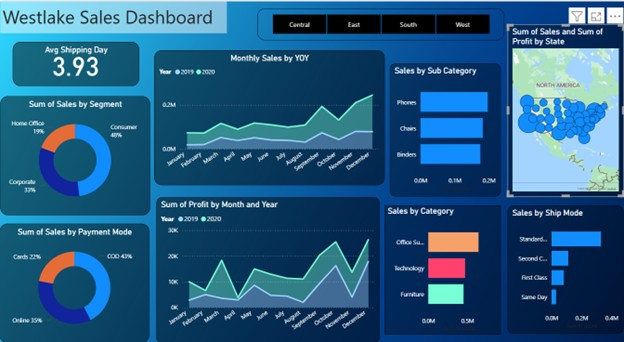

Layout of this report page (visuals, bound fields, positions):
{"tool":"powerbi","page":{"name":"Analysis","canvas":[1280,720],"ordinal":0},"visuals":[{"type":"barChart","title":"Sales by Category","fields":{"Category":["SuperStore_Sales_Dataset.Category"],"Y":["Sum(SuperStore_Sales_Dataset.Sales)"]},"box":[790.5,418.3,237,264],"z":0},{"type":"barChart","title":"Sales by Sub Category","fields":{"Y":["Sum(SuperStore_Sales_Dataset.Sales)"],"Category":["SuperStore_Sales_Dataset.Sub-Category"]},"box":[799.5,127.2,227.1,272.6],"z":1000},{"type":"barChart","title":"Sales by Ship Mode","fields":{"Y":["Sum(SuperStore_Sales_Dataset.Sales)"],"Category":["SuperStore_Sales_Dataset.Ship Mode"]},"box":[1041.9,418.3,237,262.5],"z":2000},{"type":"stackedAreaChart","title":"Monthly Sales by YOY","fields":{"Y":["Sum(SuperStore_Sales_Dataset.Sales)"],"Category":["SuperStore_Sales_Dataset.Order Date.Variation.Date Hierarchy.Month","SuperStore_Sales_Dataset.Order Date.Variation.Date Hierarchy.Day"],"Series":["SuperStore_Sales_Dataset.Order Date.Variation.Date Hierarchy.Year"]},"box":[316.5,100.2,472.4,276.8],"z":3000},{"type":"stackedAreaChart","fields":{"Category":["SuperStore_Sales_Dataset.Order Date.Variation.Date Hierarchy.Month","SuperStore_Sales_Dataset.Order Date.Variation.Date Hierarchy.Day"],"Series":["SuperStore_Sales_Dataset.Order Date.Variation.Date Hierarchy.Year"],"Y":["Sum(SuperStore_Sales_Dataset.Profit)"]},"box":[321.3,400.8,458.1,299],"z":4000},{"type":"azureMap","fields":{"Category":["SuperStore_Sales_Dataset.State"],"Size":["Sum(SuperStore_Sales_Dataset.Sales)"]},"box":[1041.8,46.9,237.7,352.8],"z":5000},{"type":"donutChart","fields":{"Y":["Sum(SuperStore_Sales_Dataset.Sales)"],"Category":["SuperStore_Sales_Dataset.Segment"]},"box":[1.5,193.8,307.4,243.8],"z":6000},{"type":"donutChart","fields":{"Y":["Sum(SuperStore_Sales_Dataset.Sales)"],"Category":["SuperStore_Sales_Dataset.Payment Mode"]},"box":[0,455.8,307.4,243.8],"z":7000},{"type":"slicer","fields":{"Values":["SuperStore_Sales_Dataset.Region"]},"box":[528.5,13.6,505.7,65.1],"z":8000},{"type":"textbox","box":[1.5,0,464.9,65.1],"z":9000},{"type":"card","title":"Avg Shipping Day","fields":{"Values":["Avg(SuperStore_Sales_Dataset.Avg_Delivery)"]},"box":[27,82.7,259.3,90.7],"z":10000}]}

Visuals, with their boxes in screenshot pixels (x1, y1, x2, y2), scaled from the page's 1280x720 canvas onto the 624x342 screenshot:
"Sales by Category" barChart: [385,199,501,324]
"Sales by Sub Category" barChart: [390,60,500,190]
"Sales by Ship Mode" barChart: [508,199,623,323]
"Monthly Sales by YOY" stackedAreaChart: [154,48,385,179]
stackedAreaChart - SuperStore_Sales_Dataset.Order Date.Variation.Date Hierarchy.Month x SuperStore_Sales_Dataset.Order Date.Variation.Date Hierarchy.Day: [157,190,380,332]
azureMap - SuperStore_Sales_Dataset.State x Sum(SuperStore_Sales_Dataset.Sales): [508,22,623,190]
donutChart - Sum(SuperStore_Sales_Dataset.Sales) x SuperStore_Sales_Dataset.Segment: [1,92,151,208]
donutChart - Sum(SuperStore_Sales_Dataset.Sales) x SuperStore_Sales_Dataset.Payment Mode: [0,217,150,332]
slicer - SuperStore_Sales_Dataset.Region: [258,6,504,37]
textbox: [1,0,227,31]
"Avg Shipping Day" card: [13,39,140,82]
